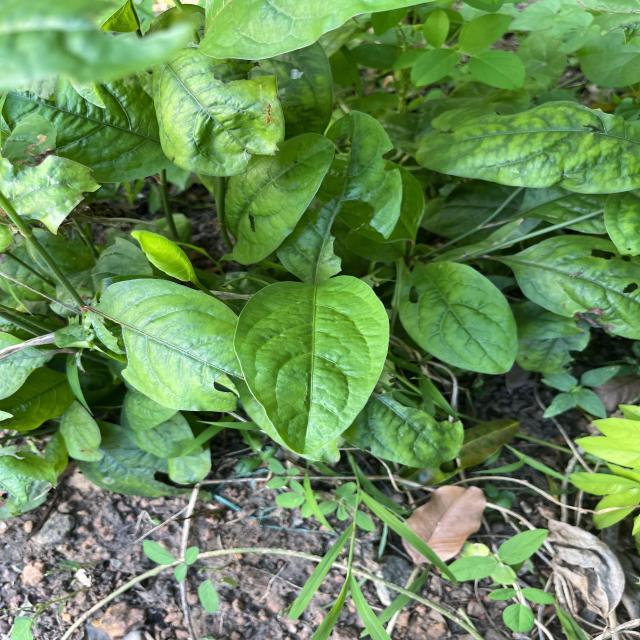Plumbago indica: (231, 267, 393, 462), (411, 99, 640, 197), (392, 254, 519, 378)
